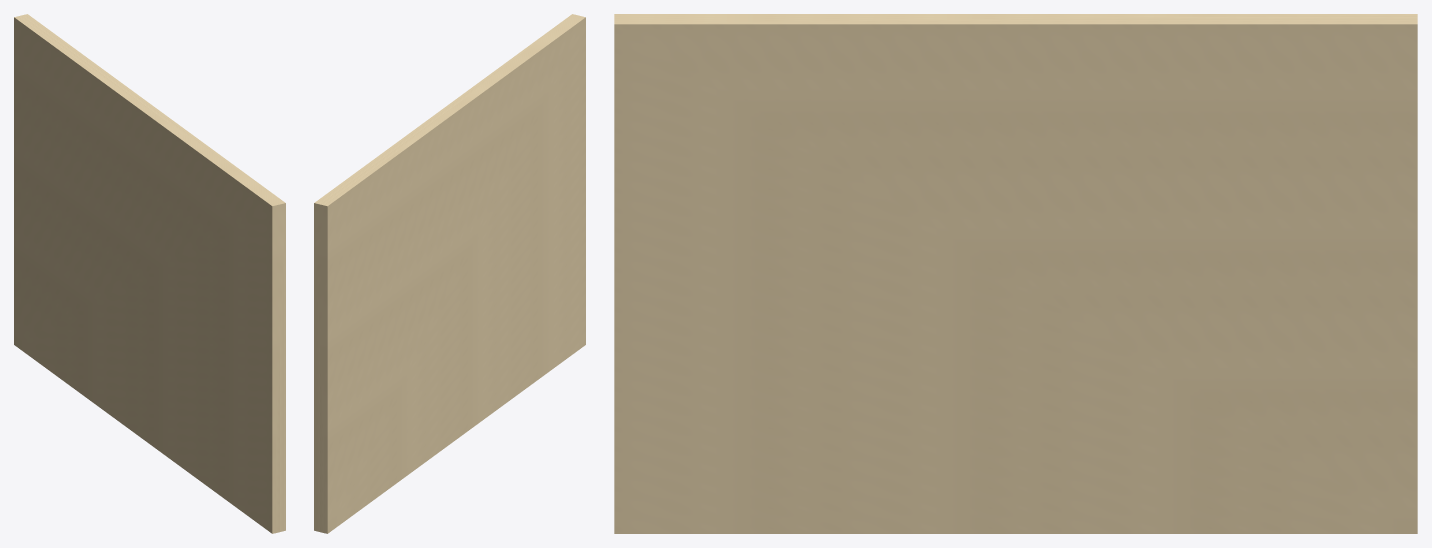
The model's file is west.glb.
3 renders of one model, left to right at view 1: azimuth 30°, elevation 25°; view 2: azimuth 150°, elevation 25°; view 3: azimuth 270°, elevation 25°, orthographic. The views are drawn at different scales.
Parts seen in each view (by area): view 1: west; view 2: west; view 3: west.
Part boxes in pixels (left/top/right/bottom): west: left=14, top=14, right=285, bottom=533; west: left=314, top=14, right=585, bottom=533; west: left=614, top=14, right=1417, bottom=533.
Bounding box in the file's own units: 0.12 × 2.8 × 4.
1 material, 1 textured.
